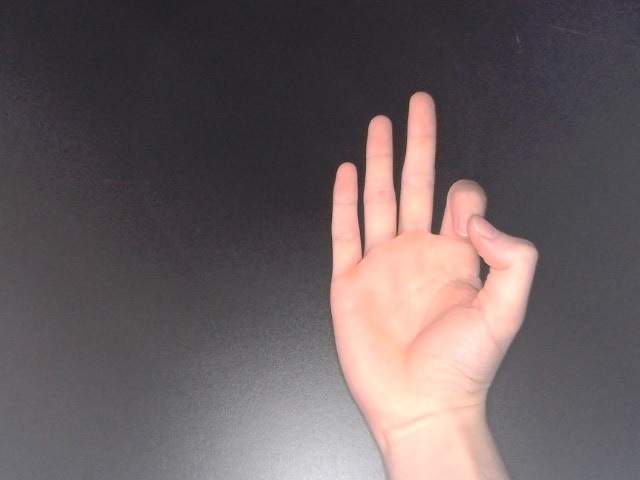f: (325, 88, 542, 447)
